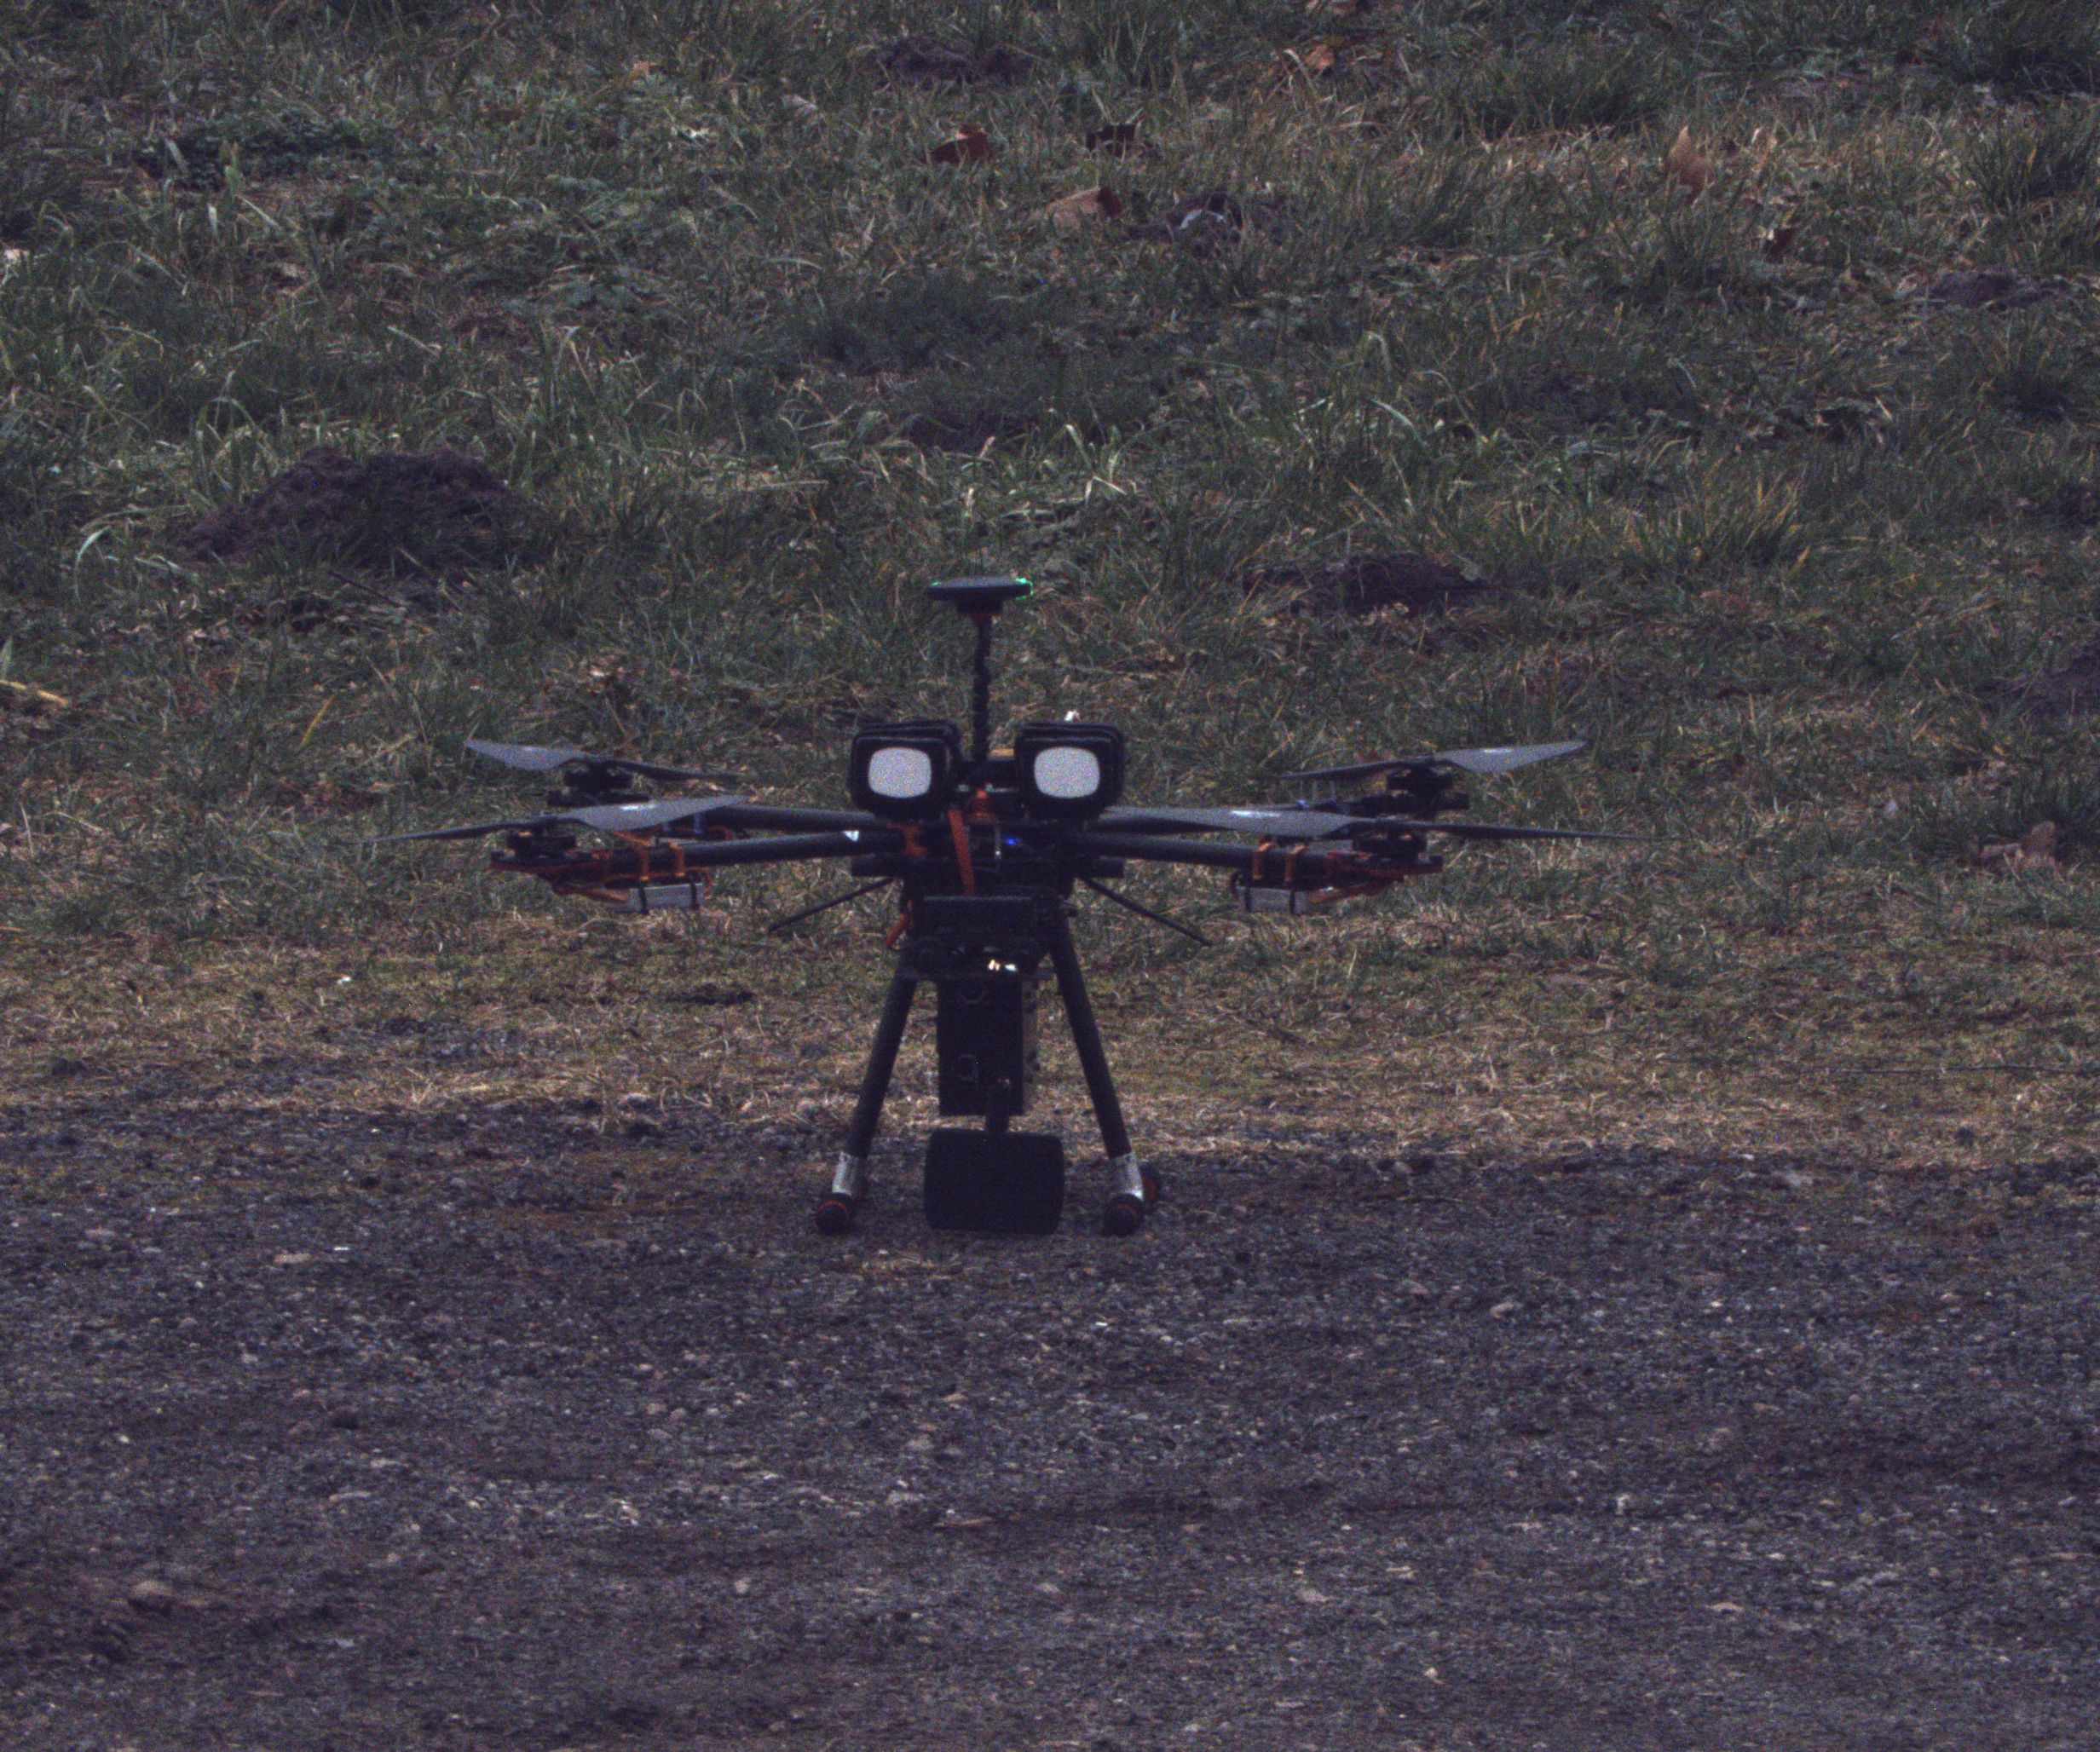Drohne: (326, 528, 1688, 1316)
